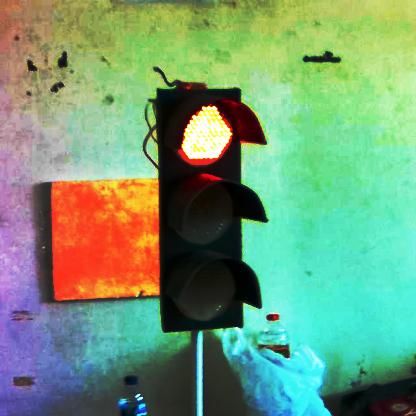Traffic Light -Red-: (163, 92, 263, 330)
